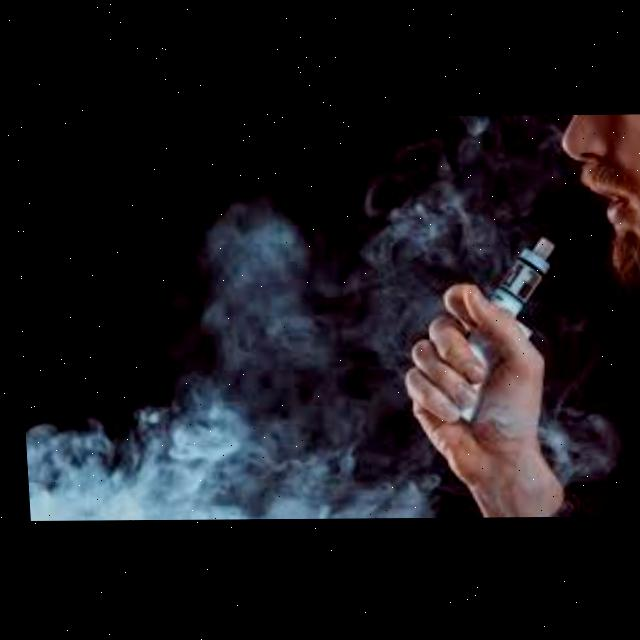vape: (421, 235, 564, 427)
